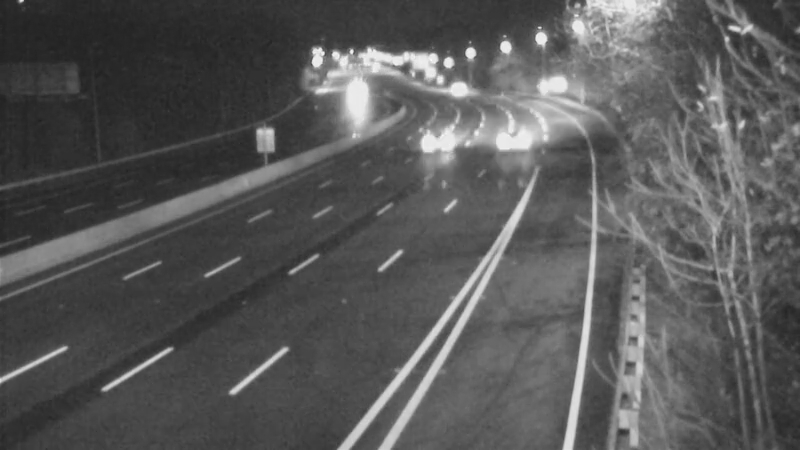vehicle: (430, 64, 480, 114), (486, 113, 536, 163), (413, 121, 463, 171), (327, 71, 377, 121)
